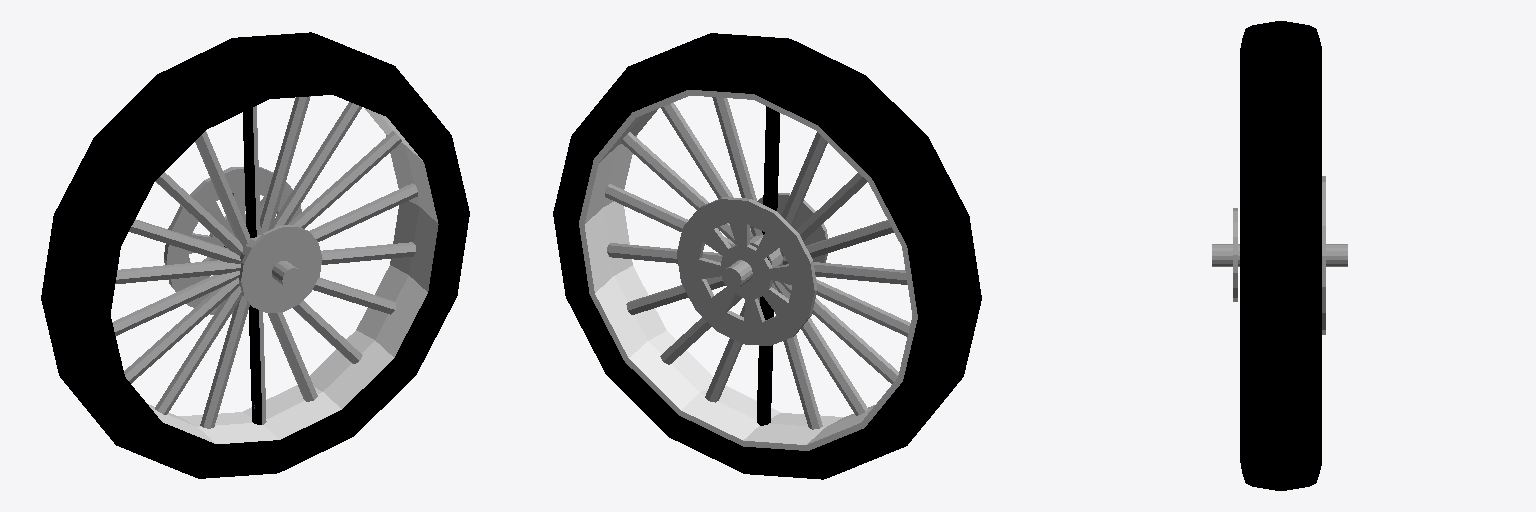
Rendered from motor_front_wheel.obj.
3 renders of one model, left to right at view 1: azimuth 30°, elevation 25°; view 2: azimuth 150°, elevation 25°; view 3: azimuth 270°, elevation 25°, orthographic.
Visible parts, largest first — view 1: front_wheel_Cylinder.020; view 2: front_wheel_Cylinder.020; view 3: front_wheel_Cylinder.020.
Boxes of the visible parts, <box> form: front_wheel_Cylinder.020: <box>41,32,469,478</box>; front_wheel_Cylinder.020: <box>553,33,981,479</box>; front_wheel_Cylinder.020: <box>1212,21,1347,490</box>.
Bounding box in the file's own units: 2.3 × 2.3 × 0.664.